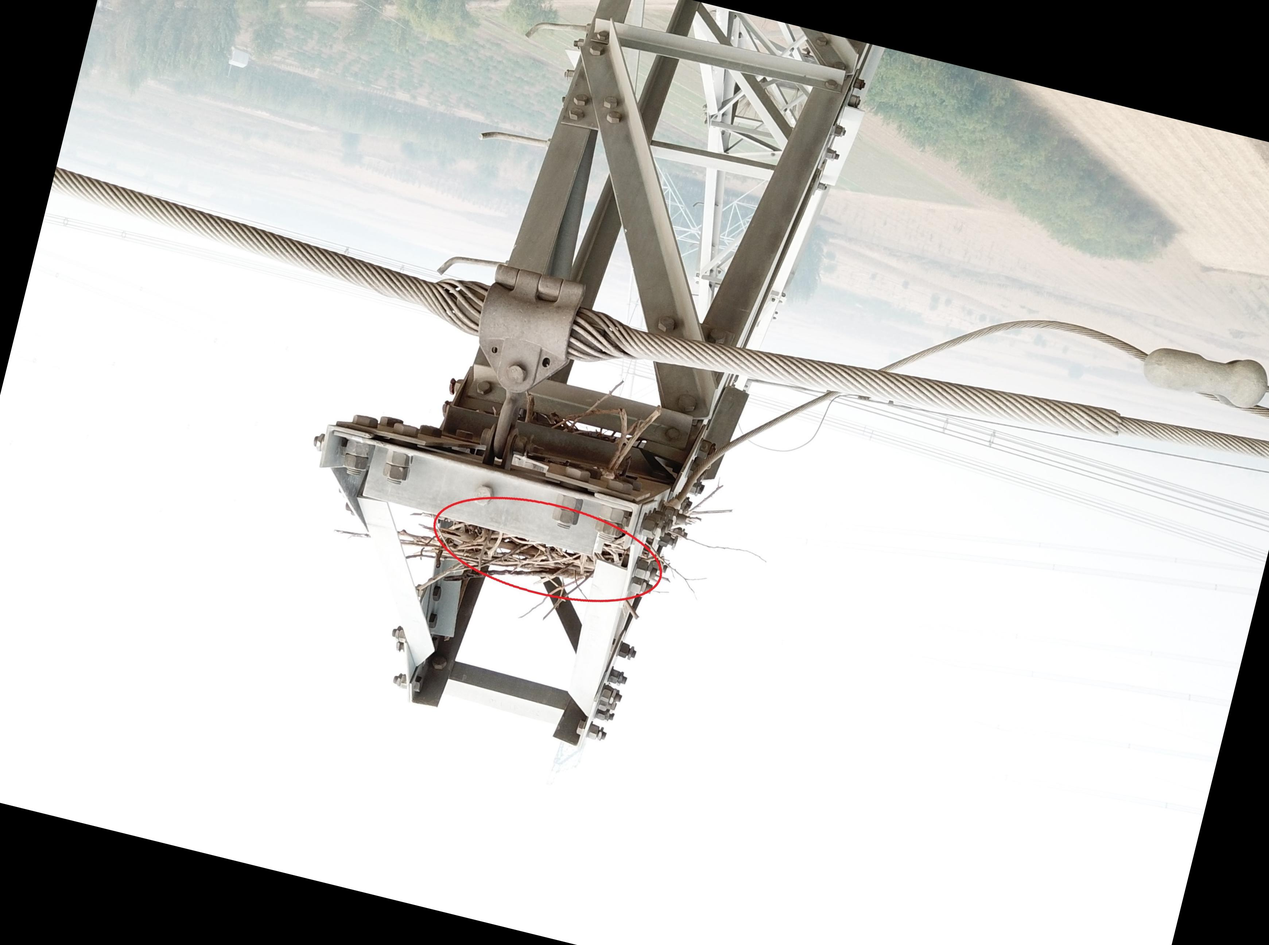damper: (1118, 321, 1269, 504)
